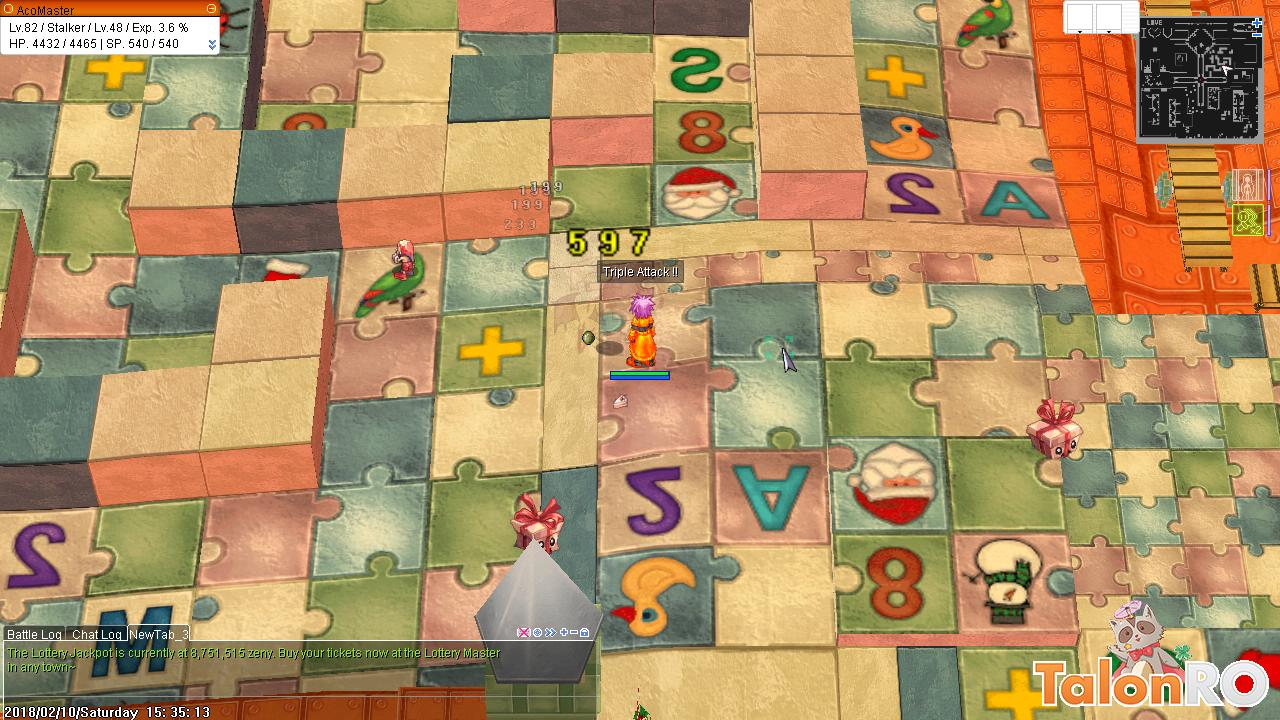loot: (611, 387, 628, 415), (578, 323, 596, 349)
myst_case: (1021, 391, 1086, 464), (509, 488, 570, 557)
